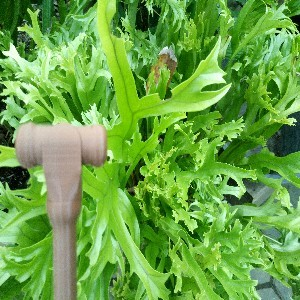palu: (14, 122, 107, 300)
